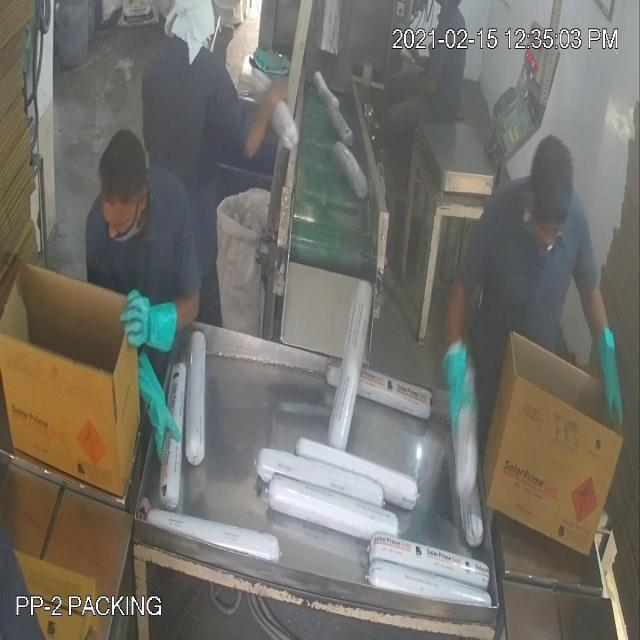gloves: (433, 324, 483, 465), (126, 348, 182, 468), (583, 321, 632, 445), (115, 286, 182, 364)
no-gloves: (248, 69, 299, 159)
